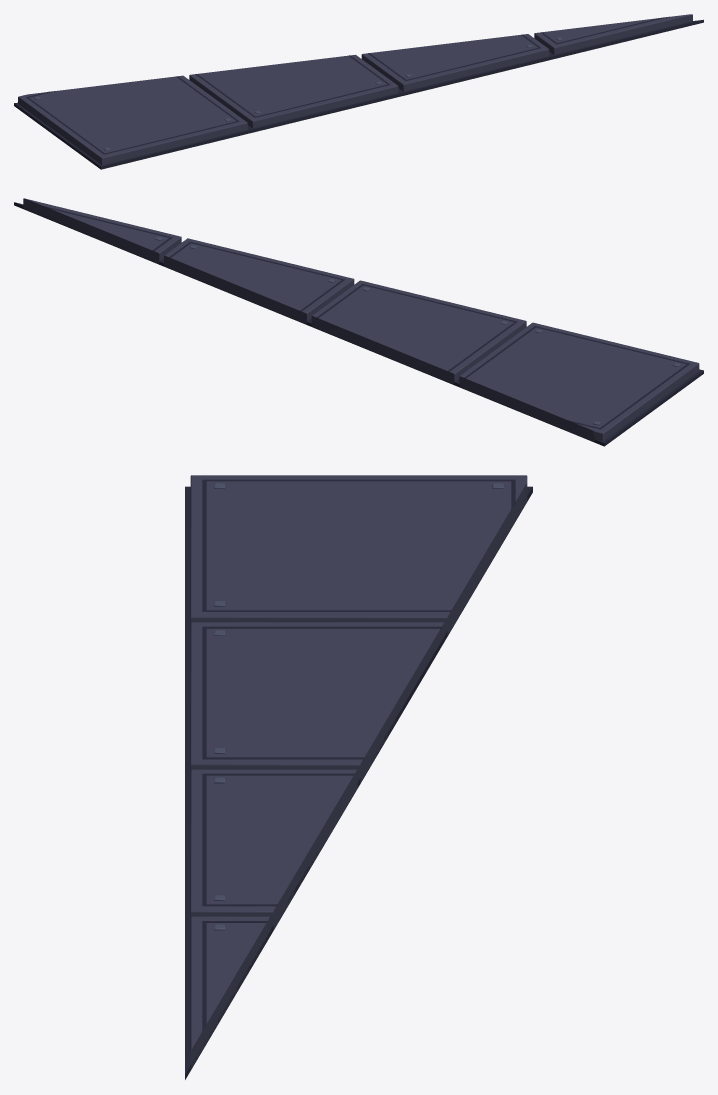
The model's file is floor.slope4.plate.glb.
3 views of the same model, one above another, from view 1: azimuth 30°, elevation 25°; view 2: azimuth 150°, elevation 25°; view 3: azimuth 270°, elevation 25° (orthographic). The views are drawn at different scales.
Visible parts, largest first — view 1: GEO-floor.slope4.plate; view 2: GEO-floor.slope4.plate; view 3: GEO-floor.slope4.plate.
Part boxes in pixels (bbox=[...]): GEO-floor.slope4.plate: bbox=[14, 14, 703, 169]; GEO-floor.slope4.plate: bbox=[14, 198, 703, 446]; GEO-floor.slope4.plate: bbox=[185, 475, 532, 1079].
Bounding box in the file's own units: 4 × 0.069 × 1.
